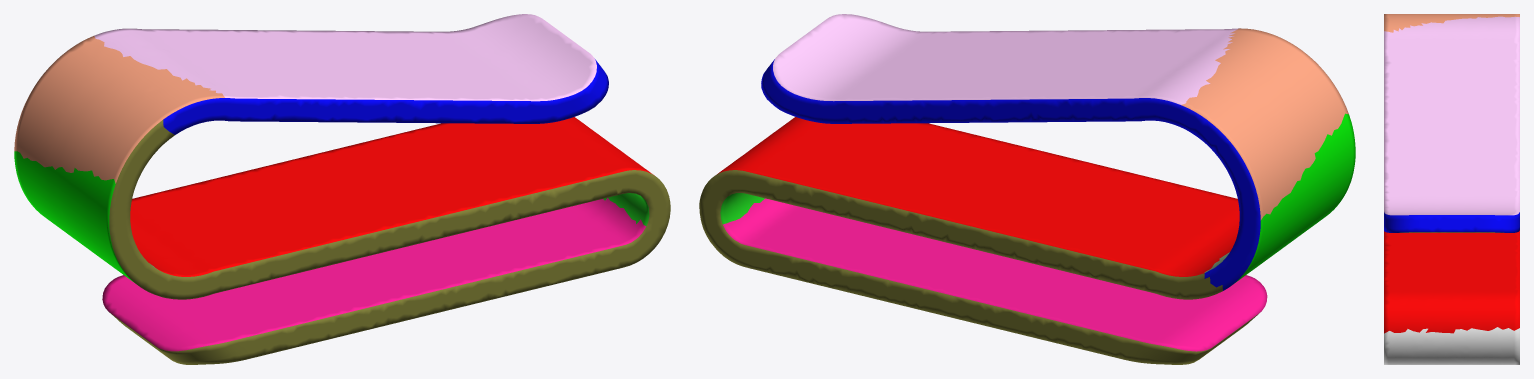
File: model_35_segmented_new.obj
3 views of the same model, side by side, from view 1: azimuth 30°, elevation 25°; view 2: azimuth 150°, elevation 25°; view 3: azimuth 270°, elevation 25° (orthographic). The views are drawn at different scales.
Size of the model in its own units: 68.32 by 31.98 by 20.
